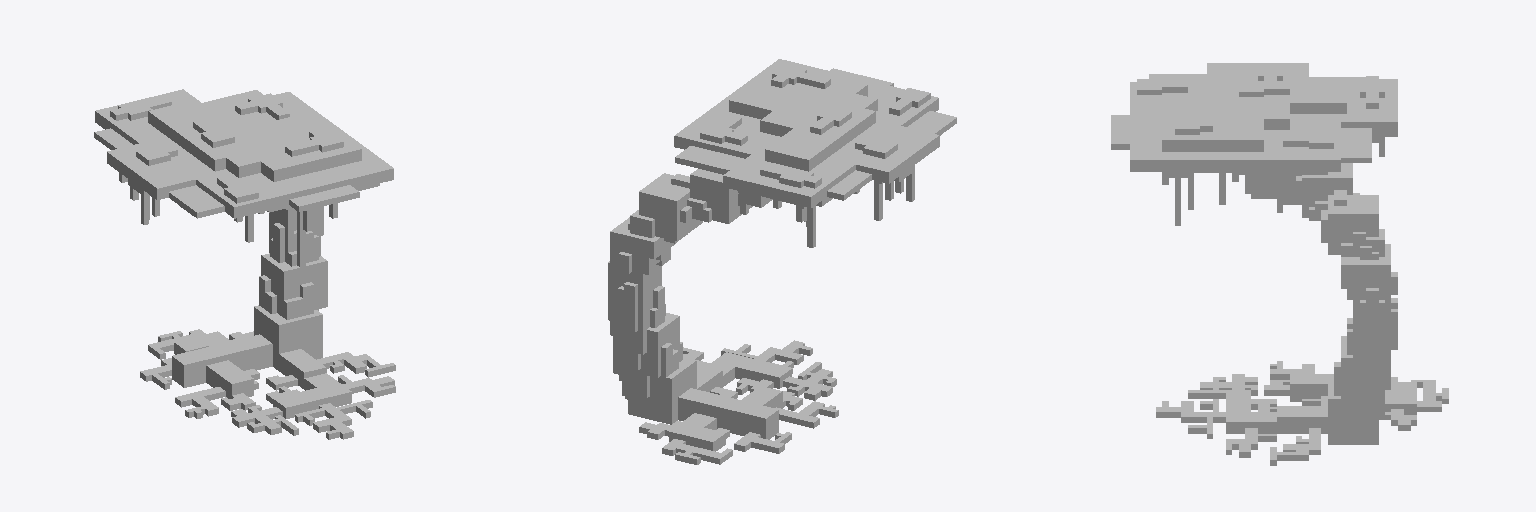
The model's file is weepingTree1-0.obj.
The picture shows the model from 3 angles: view 1: azimuth 30°, elevation 25°; view 2: azimuth 150°, elevation 25°; view 3: azimuth 270°, elevation 25°; orthographic projection.
Visible parts, largest first — view 1: object 1; view 2: object 1; view 3: object 1.
Part boxes in pixels (x1,y1,x2,y2): object 1: (94, 89, 395, 439); object 1: (608, 59, 956, 464); object 1: (1111, 63, 1448, 465).
Size of the model in its own units: 4.9 by 5 by 5.3.